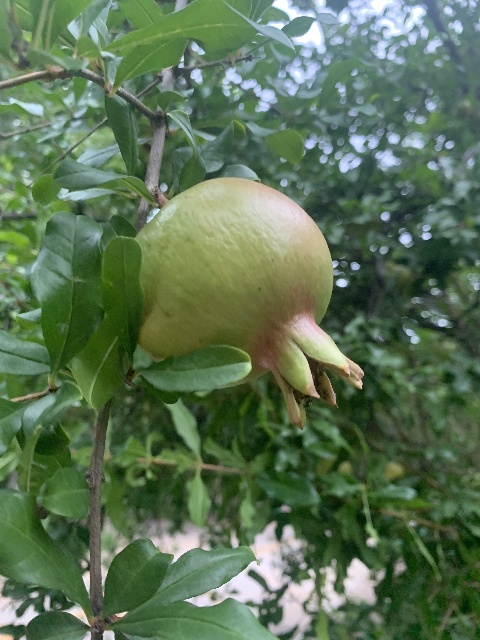mid-growth: (136, 176, 365, 432)
